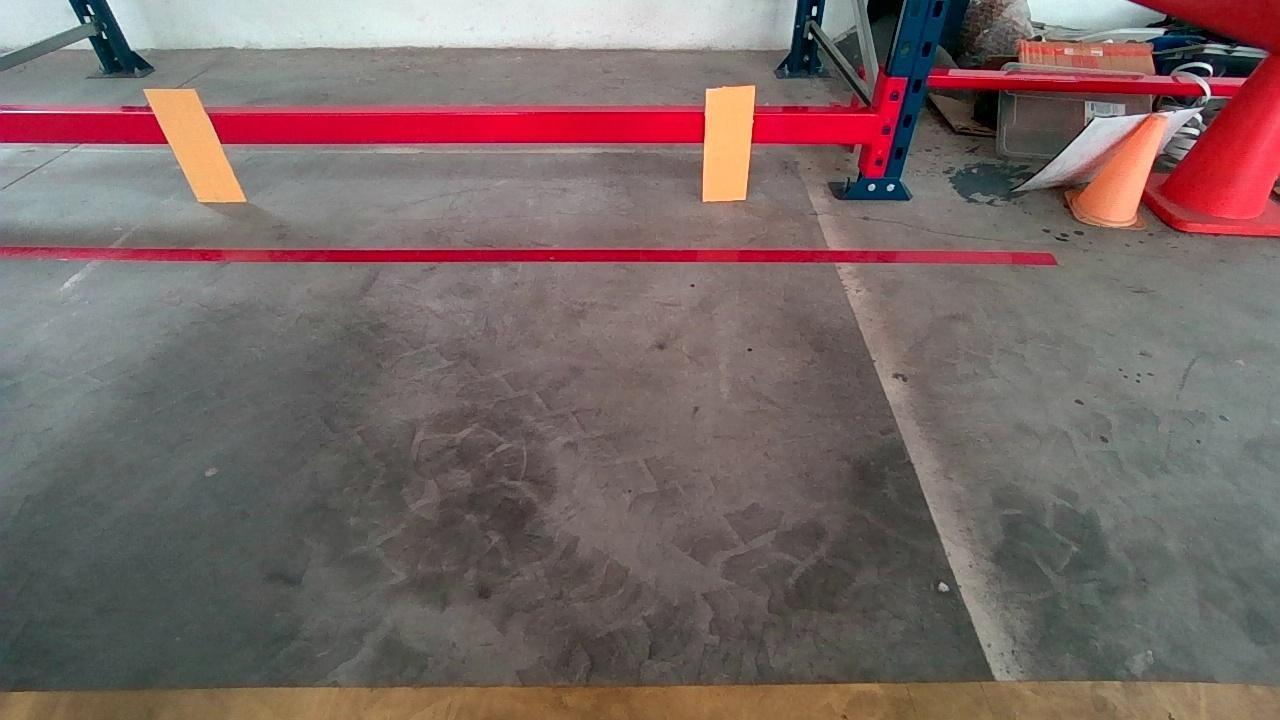h_rack: (0, 104, 881, 150)
orange_strip: (143, 88, 245, 200), (703, 86, 754, 200)
red_line: (0, 246, 1059, 267)
